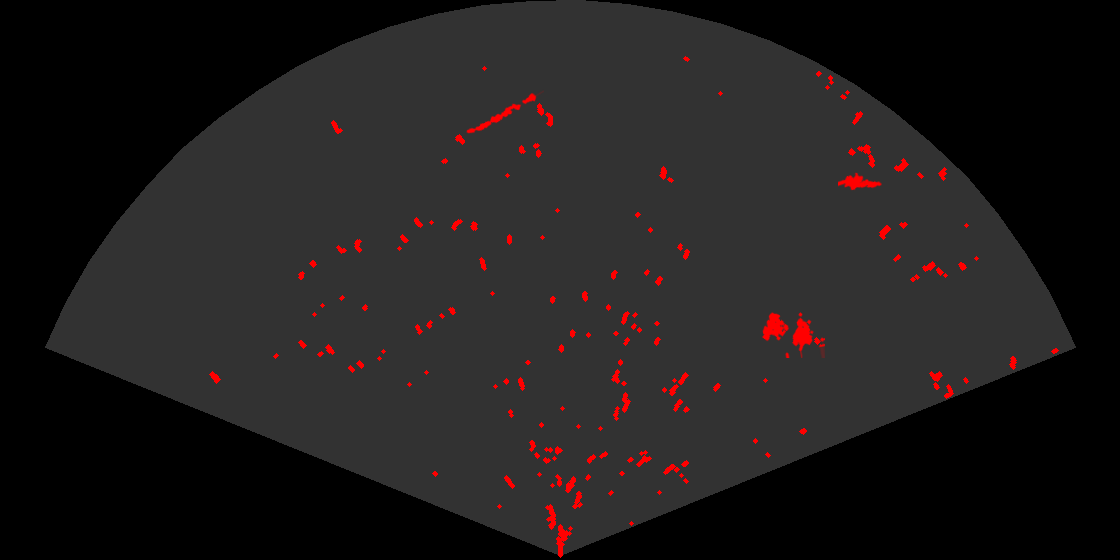cage: (760, 311, 825, 358)
chain: (465, 89, 544, 135)
frogman: (838, 171, 882, 192)
